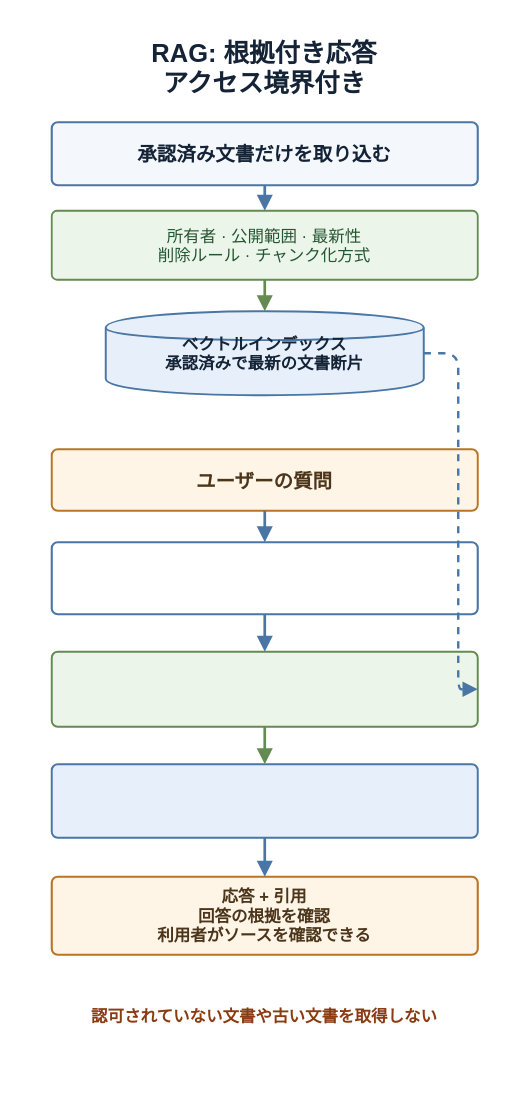
The diagram is 530 pixels wide and 1106 high, and some of its shapes have lost their labels. Here are the shapes that lost their labels. From the top down, the box of each, then its label:
(50, 540, 478, 615): アクセスチェック ユーザー権限 + 文書スコープ
(50, 650, 478, 727): 対象断片を取得 関連性と証拠の十分性を評価
(50, 763, 478, 838): 基盤モデル 取得断片を根拠として使用
